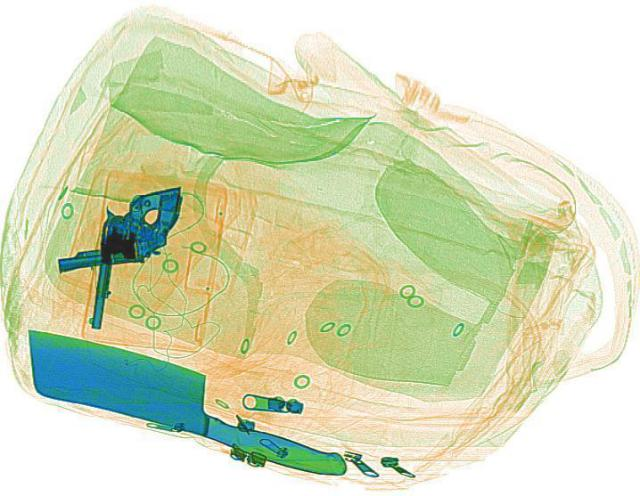Gun: (88, 179, 182, 329), (40, 189, 200, 273)
Knife: (0, 325, 373, 476)
